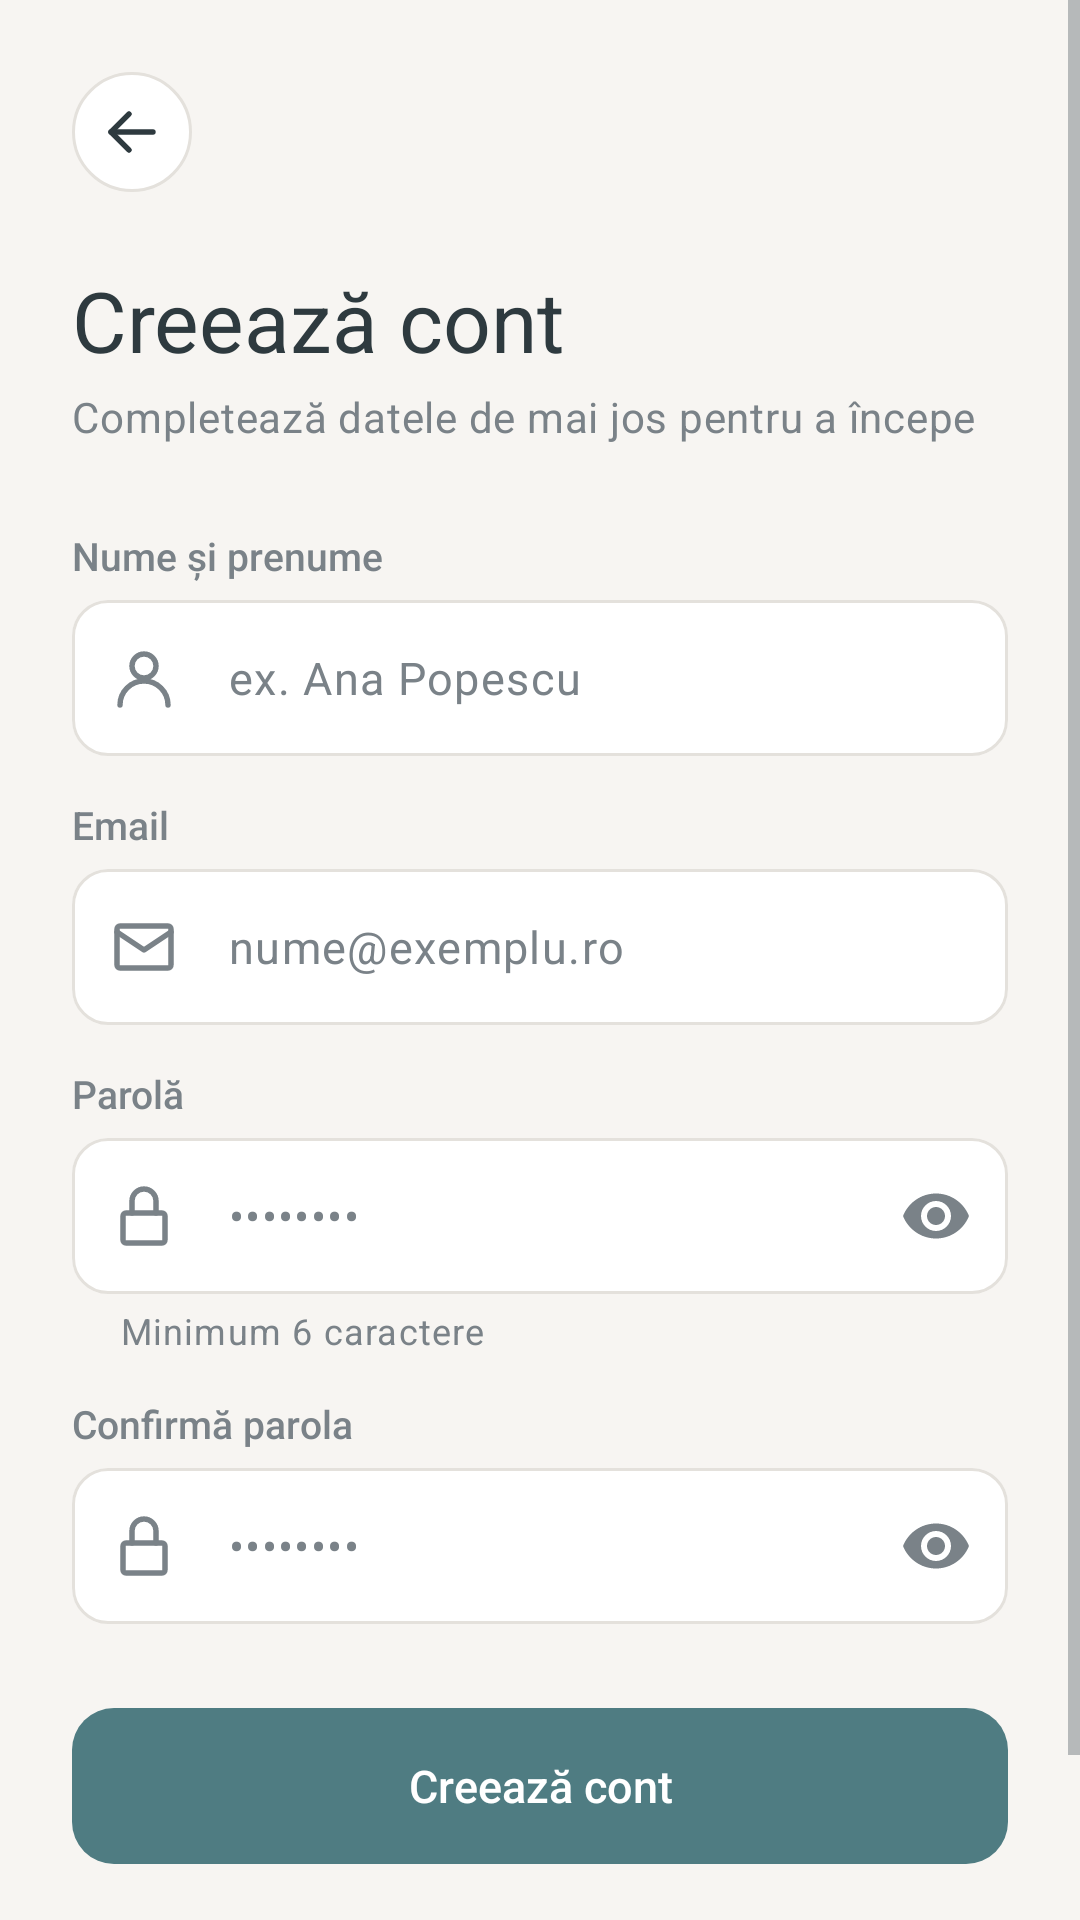

Screen size 1080*1920. Icon name, then its center in pixels as (x,y):
Înapoi: (132,132)
